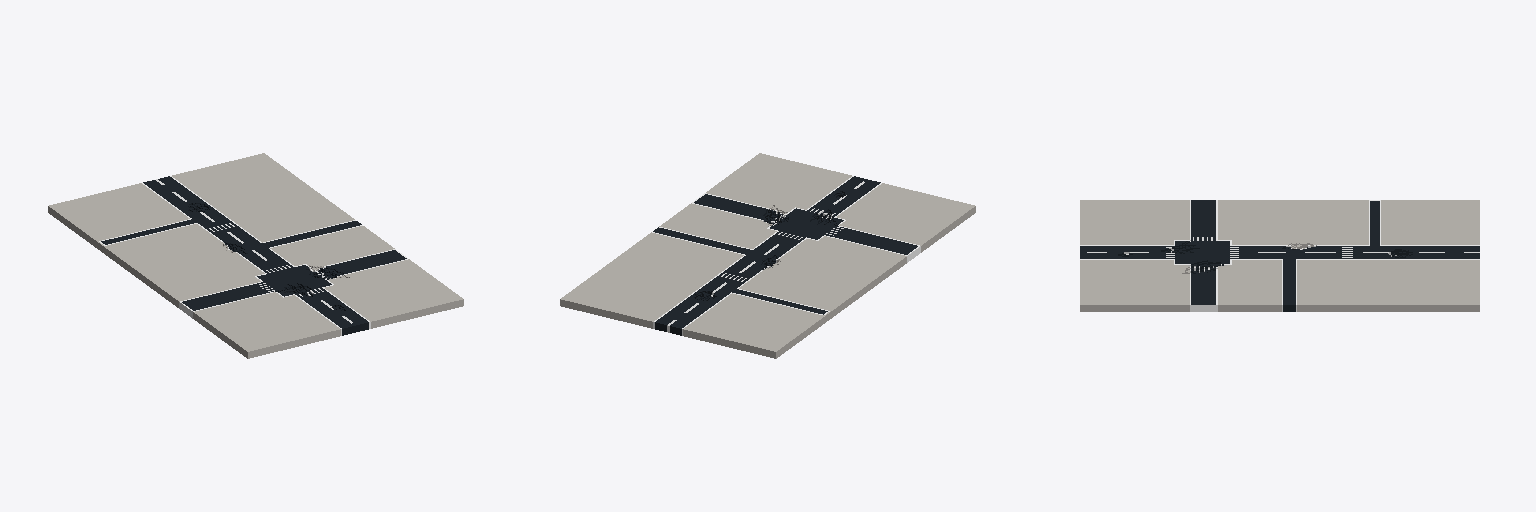
3 views of the same model, side by side, from view 1: azimuth 30°, elevation 25°; view 2: azimuth 150°, elevation 25°; view 3: azimuth 270°, elevation 25° (orthographic).
Visible parts, largest first — view 1: object 1; view 2: object 1; view 3: object 1.
Boxes of the visible parts, box(x1,y1,x2,y2) form: object 1: box(48, 153, 463, 358); object 1: box(560, 153, 975, 358); object 1: box(1080, 200, 1479, 311).
Size of the model in its own units: 16 by 0.5 by 25.6.
Materials: 1 (1 with a texture image).